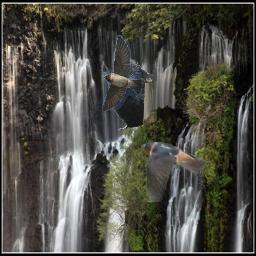Crow: (111, 58, 157, 131)
Swallow: (141, 139, 207, 202), (102, 35, 142, 111)
